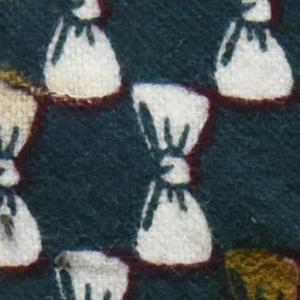Oil Stain: (1, 63, 90, 133), (213, 234, 300, 300)
